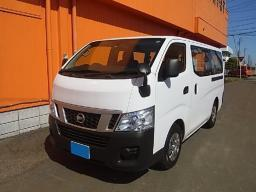Van: (47, 35, 225, 177)
